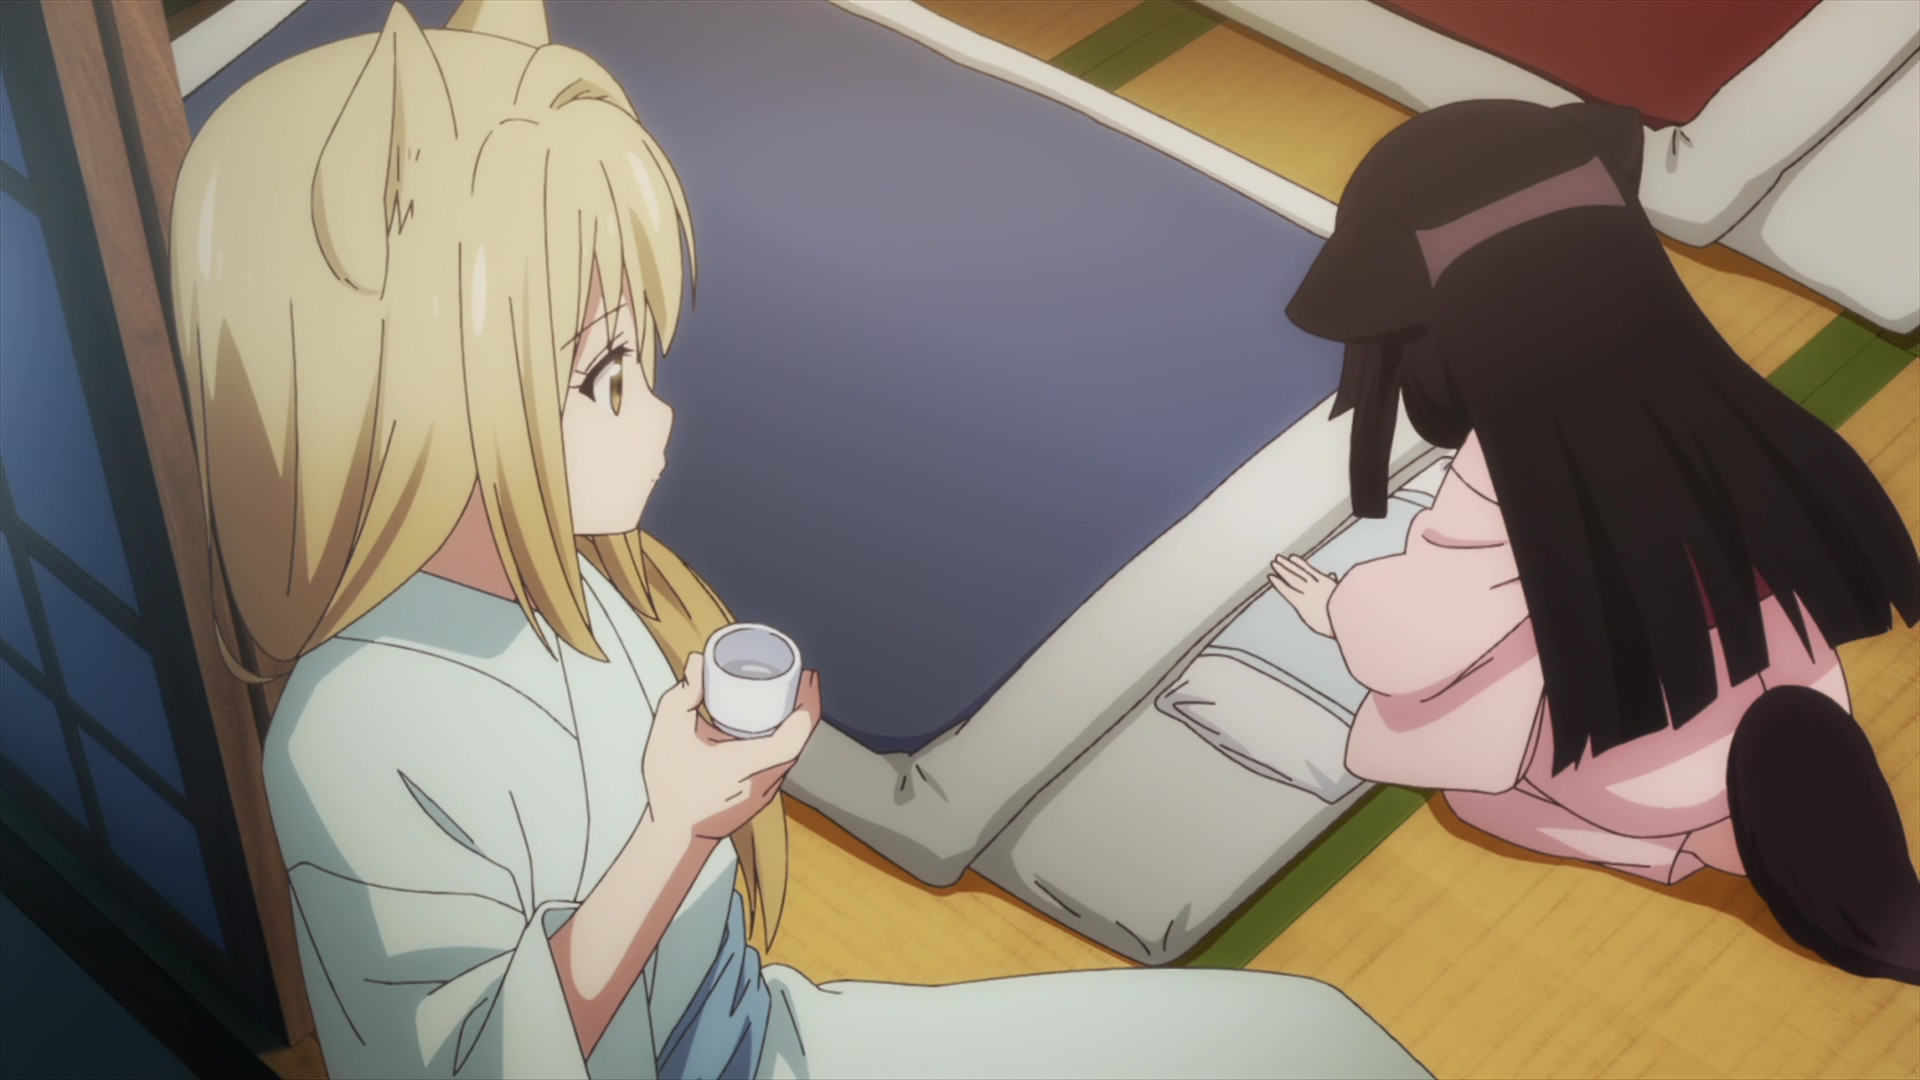桐: (170, 1, 1433, 1080)
樱: (1267, 100, 1920, 980)
